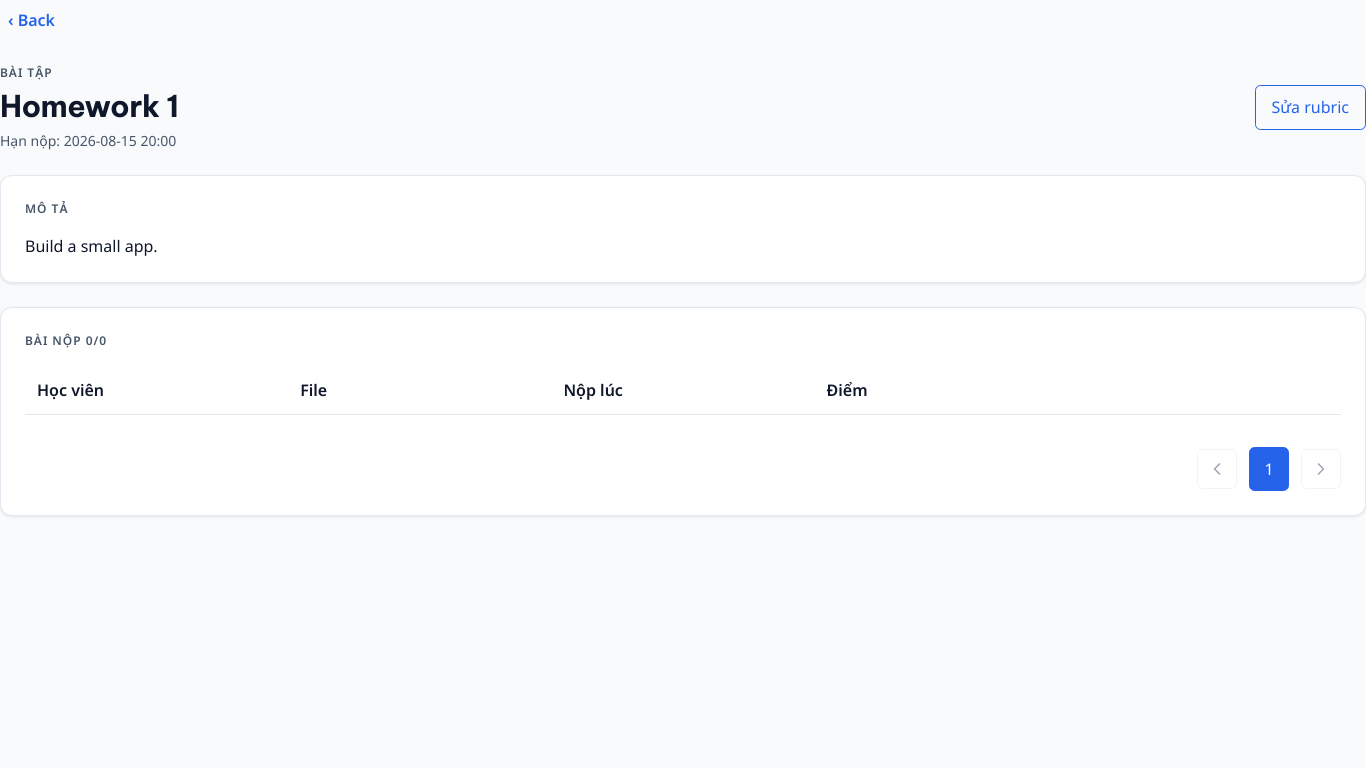
Teacher assignment page › Chia đều splits 100 evenly with the remainder on the first criterion
The width and height of the screenshot is (1366, 768).
expect the heading "Homework 1" is shown: met, box [0,88,179,124]
Click the button "Sửa rubric".
click(1310, 108)  # box [1254,85,1365,130]
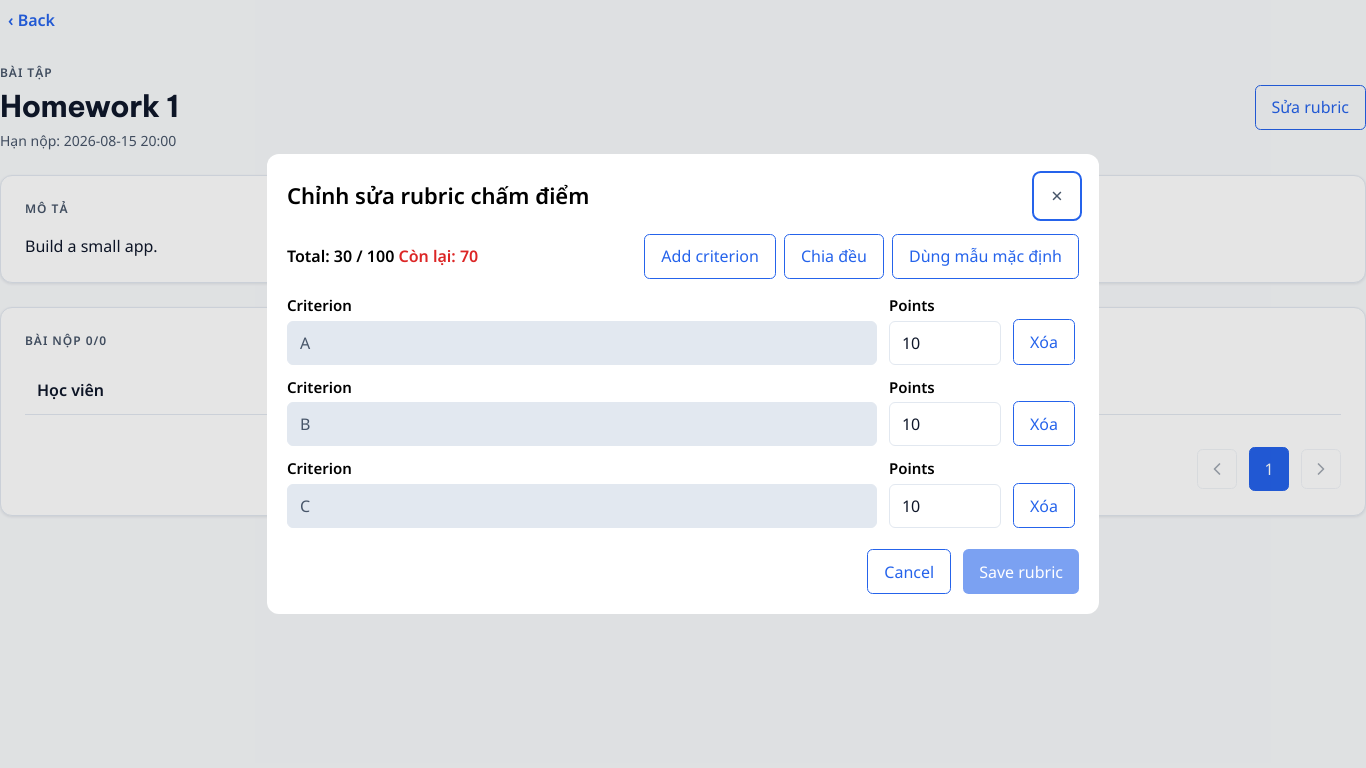
Click the button "Chia đều".
click(834, 256)  # box [784,234,884,279]
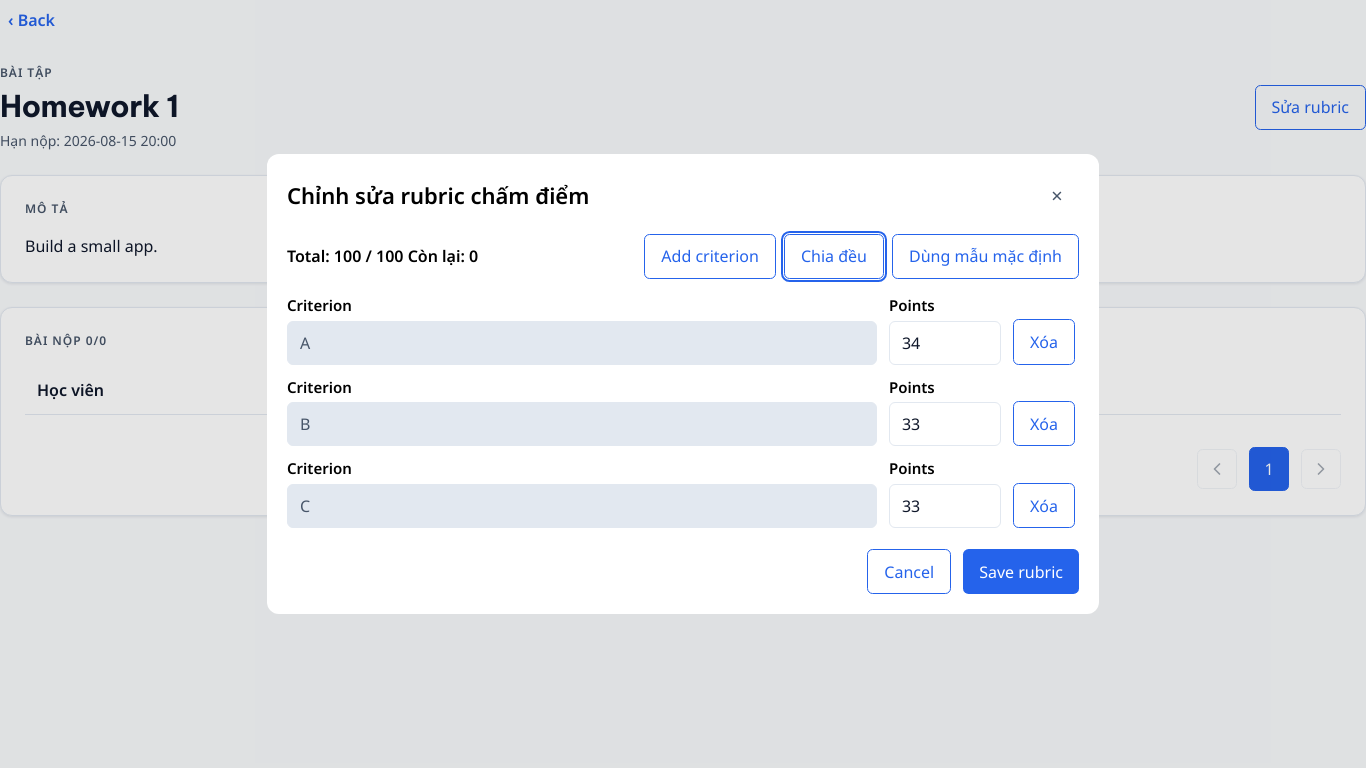
expect the 1st number field labelled "Points" holds "34": met, box [889,321,1001,365]
expect the 2nd number field labelled "Points" holds "33": met, box [889,402,1001,446]
expect the 3rd number field labelled "Points" holds "33": met, box [889,484,1001,528]
